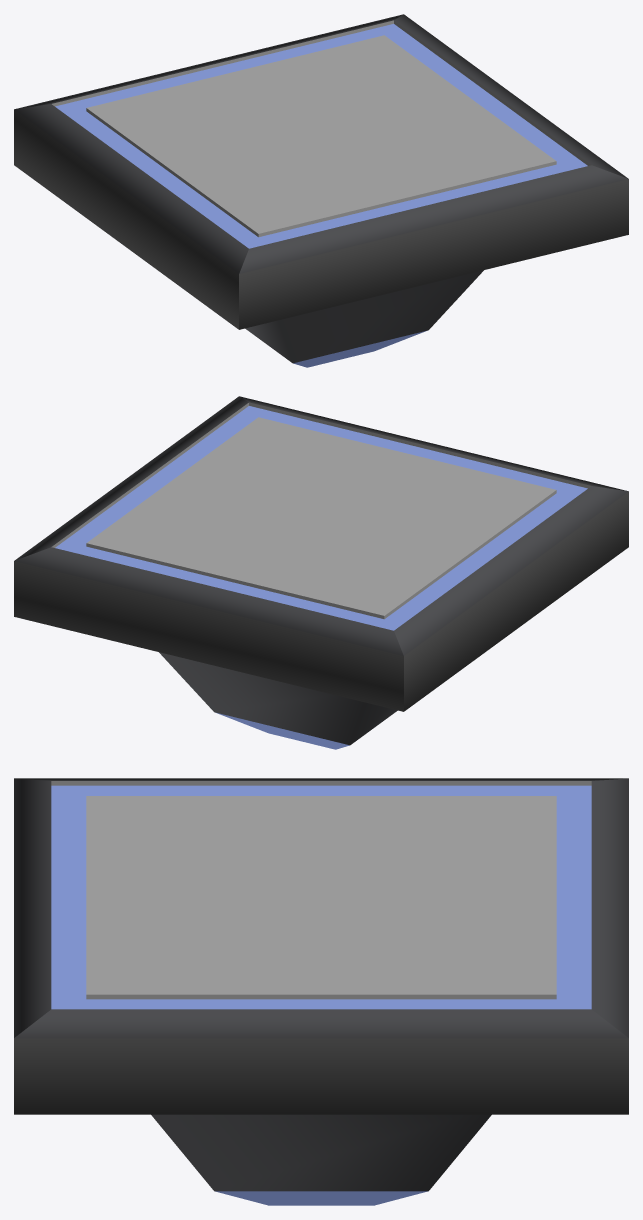
File: Platform Floating small.fbx
The picture shows the model from 3 angles, top to bottom: view 1: azimuth 30°, elevation 25°; view 2: azimuth 150°, elevation 25°; view 3: azimuth 270°, elevation 25°; orthographic projection. The views are drawn at different scales.
Parts seen in each view (by area): view 1: light_2; view 2: light_2; view 3: light_2.
Part boxes in pixels (<box>): light_2: <box>14,14,628,367</box>; light_2: <box>14,396,628,749</box>; light_2: <box>14,778,628,1205</box>.
Bounding box in the file's own units: 156 × 80.65 × 156.
